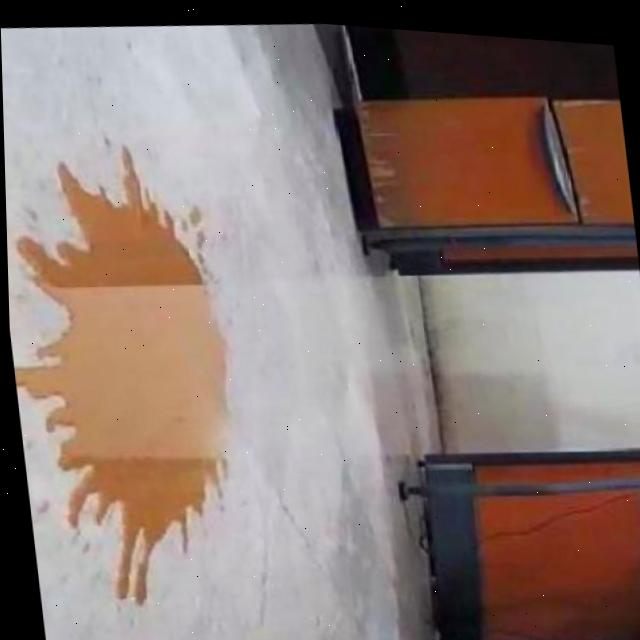spillage: (11, 165, 228, 595)
